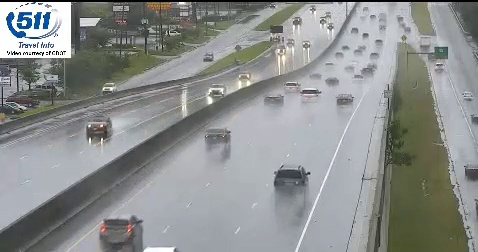car: (100, 216, 144, 243), (274, 165, 307, 190), (204, 127, 231, 144)
